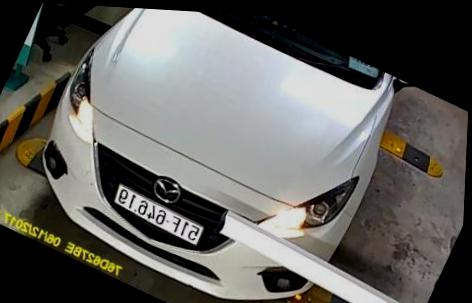License_Plate: (105, 183, 208, 244)
